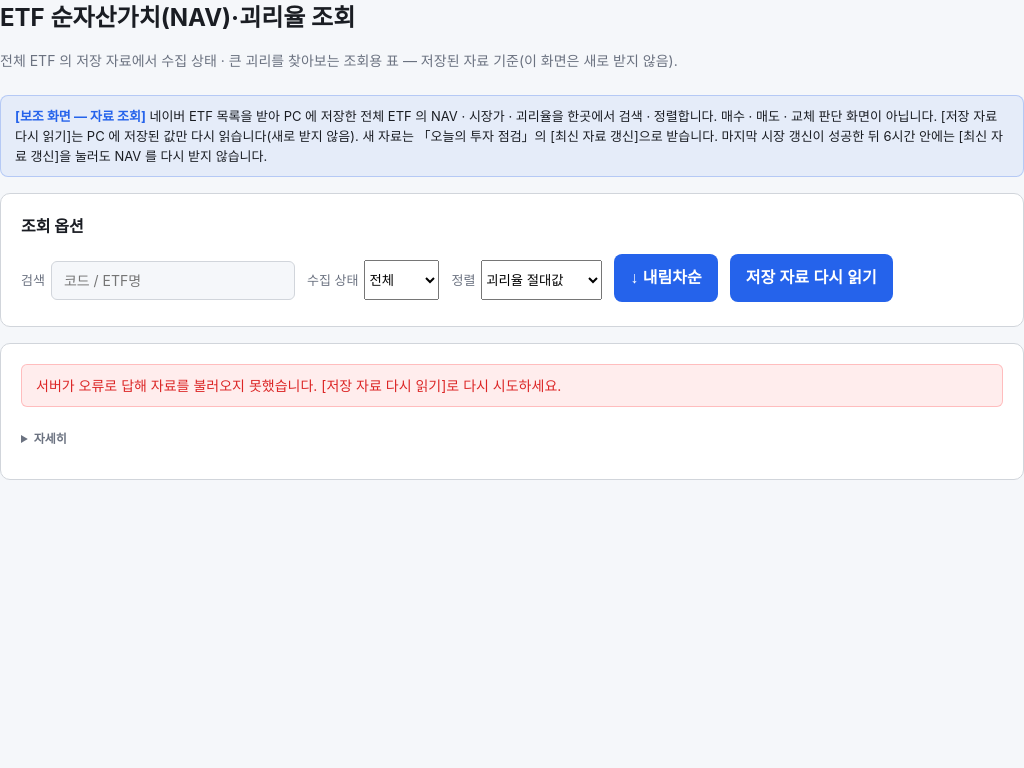
Test: POC6-34 — 저장 자료 다시 읽기 · 새 자료 경로 · 표시 범위 › 불러오기 실패 문구 전문 · 문구 안 버튼 이름 = 실제 버튼 이름 · 그 버튼으로 다시 읽으면 표가 나온다
Check: the text "서버가 오류로 답해 자료를 불러오지 못했습니다. [저장 자료 다시 읽기]로 다시 시도하세요." is shown, box [21, 364, 1003, 407]
Click the button "저장 자료 다시 읽기": point(811, 278) [730, 254, 893, 302]
(page scrolled)
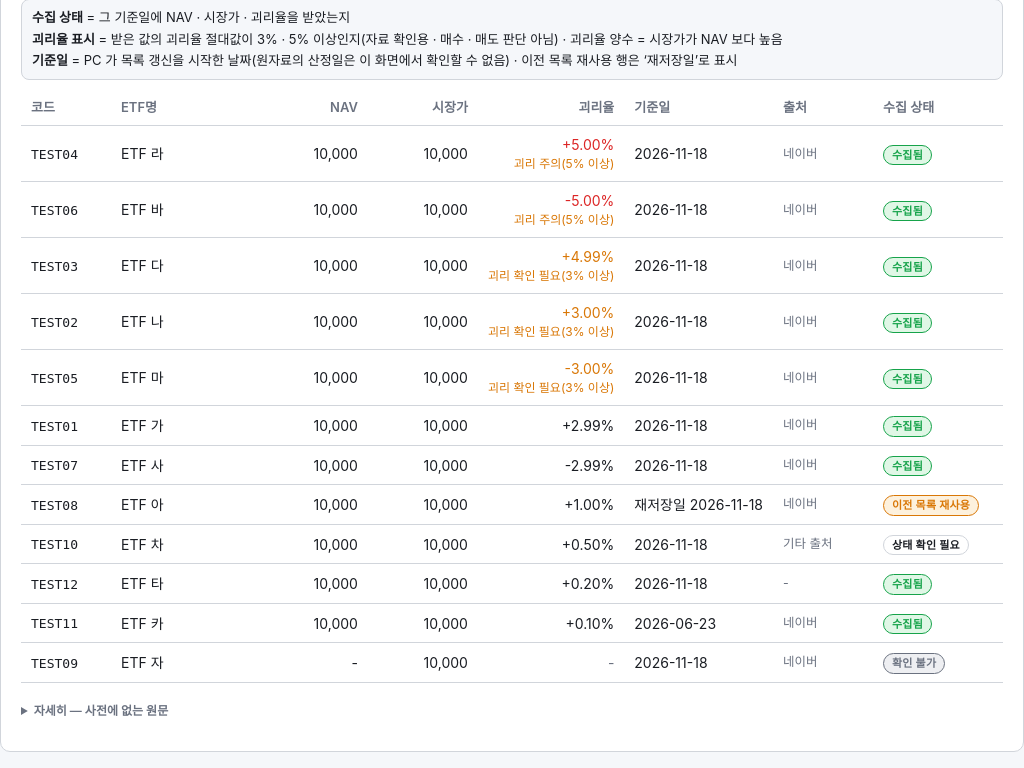
Check: the table is shown
